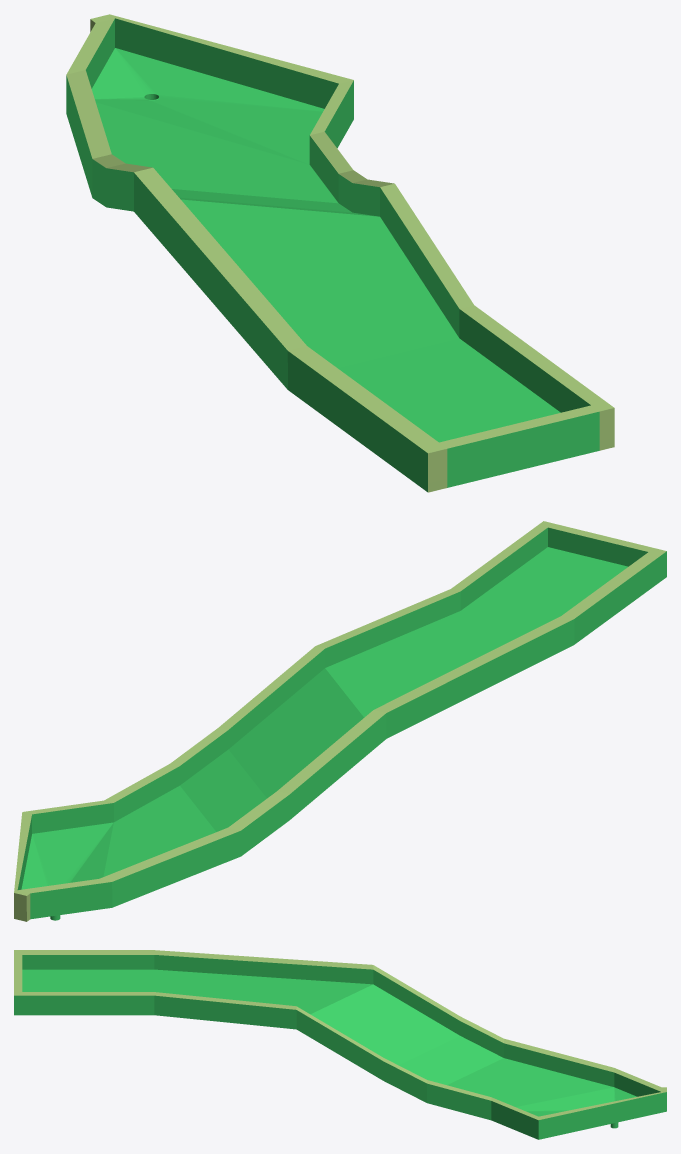
The model's file is Course1.fbx.
3 renders of one model, top to bottom at view 1: azimuth 30°, elevation 25°; view 2: azimuth 150°, elevation 25°; view 3: azimuth 270°, elevation 25°, orthographic. The views are drawn at different scales.
Parts seen in each view (by area): view 1: Cylinder; view 2: Cylinder; view 3: Cylinder.
Part boxes in pixels (x1,y1,x2,y2): Cylinder: (66,14,614,492); Cylinder: (14,521,666,921); Cylinder: (14,950,666,1139).
Size of the model in its own units: 1305 by 546 by 3277.
